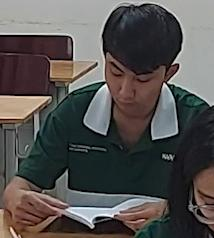Reading: (0, 0, 205, 238)
